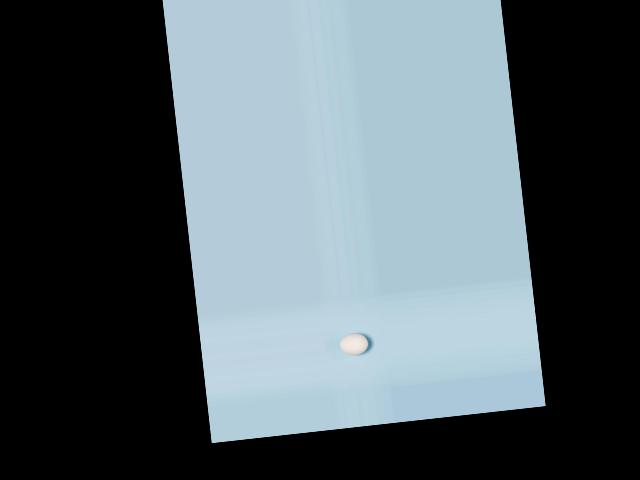egg: (338, 332, 369, 356)
